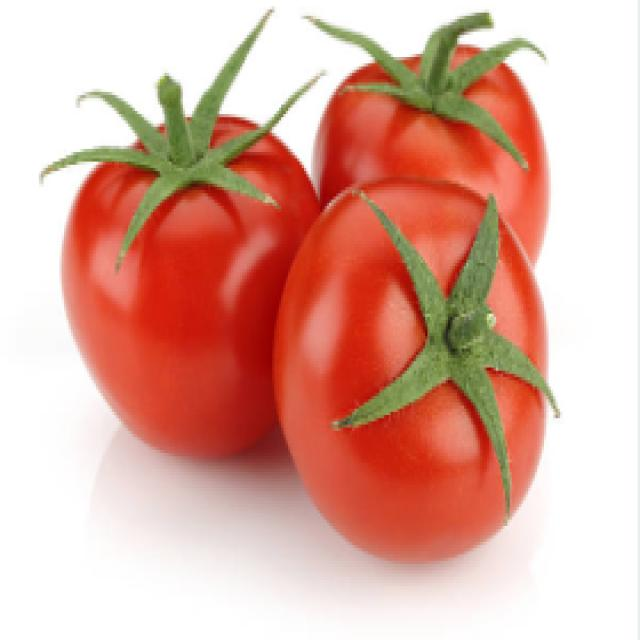Tomato: (258, 192, 546, 559), (64, 77, 301, 474), (312, 21, 564, 264)
